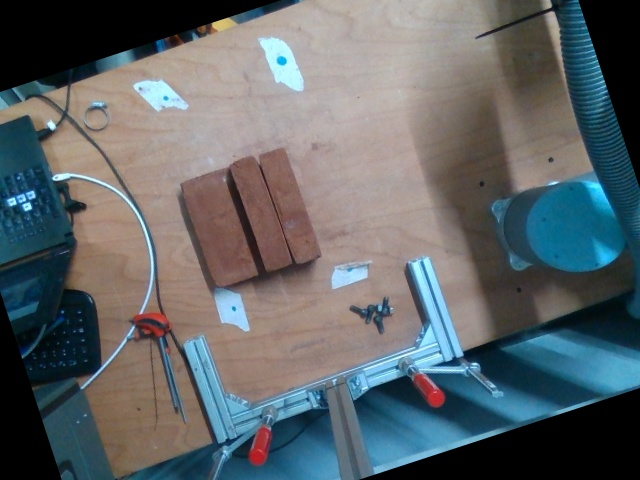brick: (177, 167, 263, 288)
brick-side: (258, 146, 322, 264), (232, 155, 292, 272)
